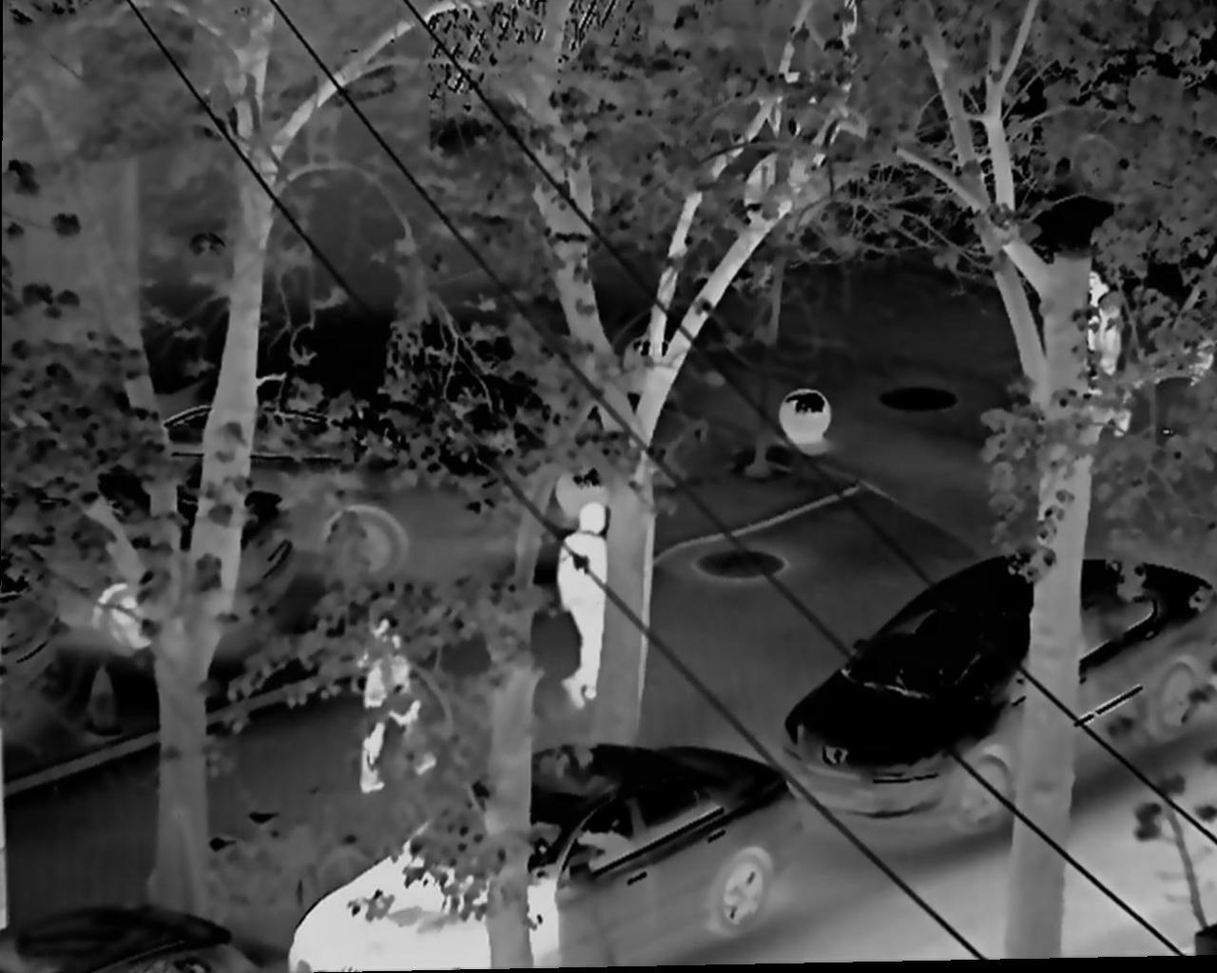person: (349, 607, 447, 787), (553, 500, 630, 715), (1079, 259, 1141, 439)
